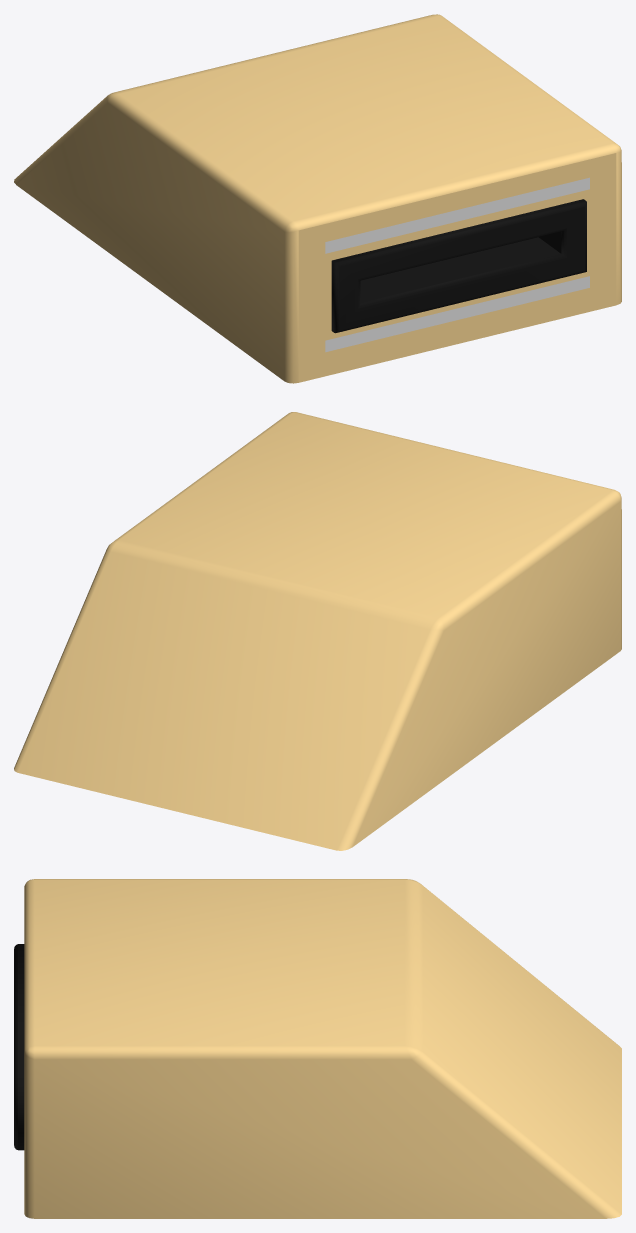
The model's file is card-reader.glb.
The picture shows the model from 3 angles, top to bottom: view 1: azimuth 30°, elevation 25°; view 2: azimuth 150°, elevation 25°; view 3: azimuth 270°, elevation 25°; orthographic projection. The views are drawn at different scales.
Visible parts, largest first — view 1: card-reader; view 2: card-reader; view 3: card-reader.
Part boxes in pixels (left/top/right/bottom): card-reader: left=14, top=14, right=621, bottom=383; card-reader: left=14, top=412, right=621, bottom=850; card-reader: left=14, top=879, right=621, bottom=1218.
Size of the model in its own units: 0.2 by 0.09 by 0.294.
